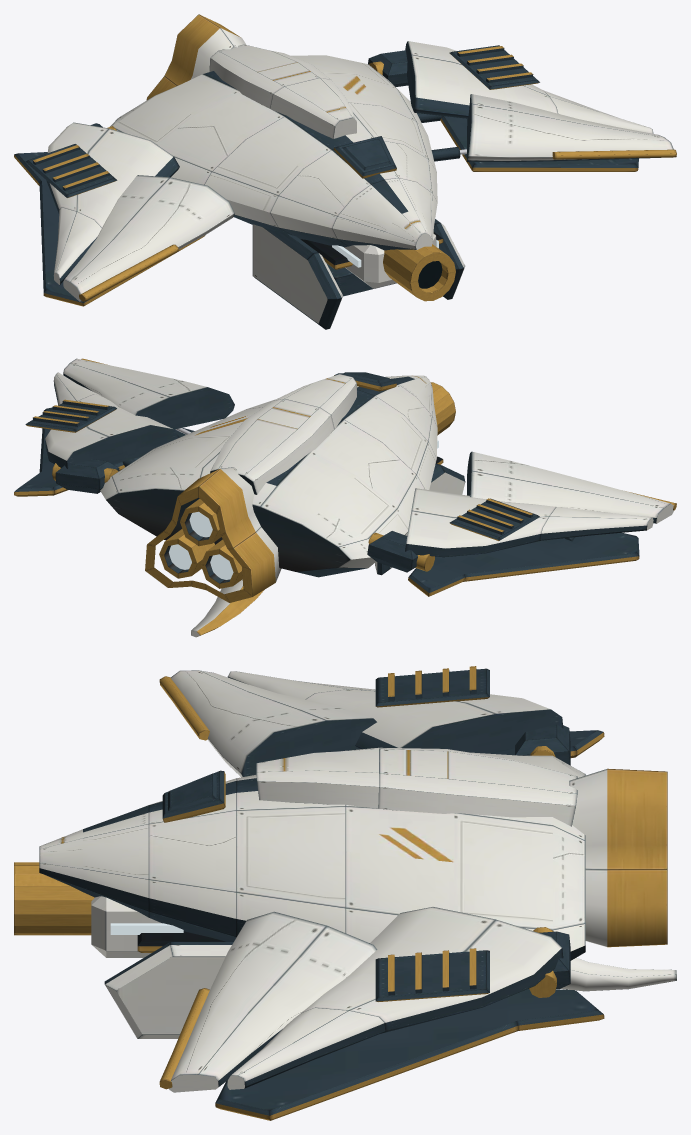
File: voyager-europa-l05-laser.glb
3 renders of one model, top to bottom at view 1: azimuth 30°, elevation 25°; view 2: azimuth 150°, elevation 25°; view 3: azimuth 270°, elevation 25°, orthographic. The views are drawn at different scales.
Visible parts, largest first — view 1: Drone; view 2: Drone; view 3: Drone.
Boxes of the visible parts, x1,y1,x2,y2 form: Drone: [14, 14, 676, 329]; Drone: [14, 358, 676, 637]; Drone: [14, 666, 676, 1120].
Size of the model in its own units: 1.61 by 0.4342 by 1.11.
3 materials, 3 textured.
